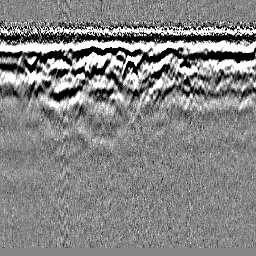cavity: (121, 54, 138, 78)
